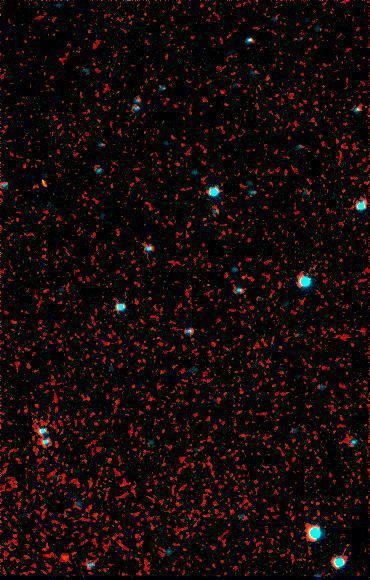star: (50, 542, 80, 572)
